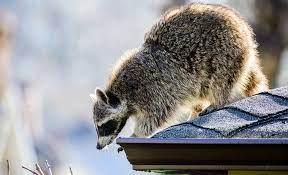raccoon: (78, 0, 279, 162)
